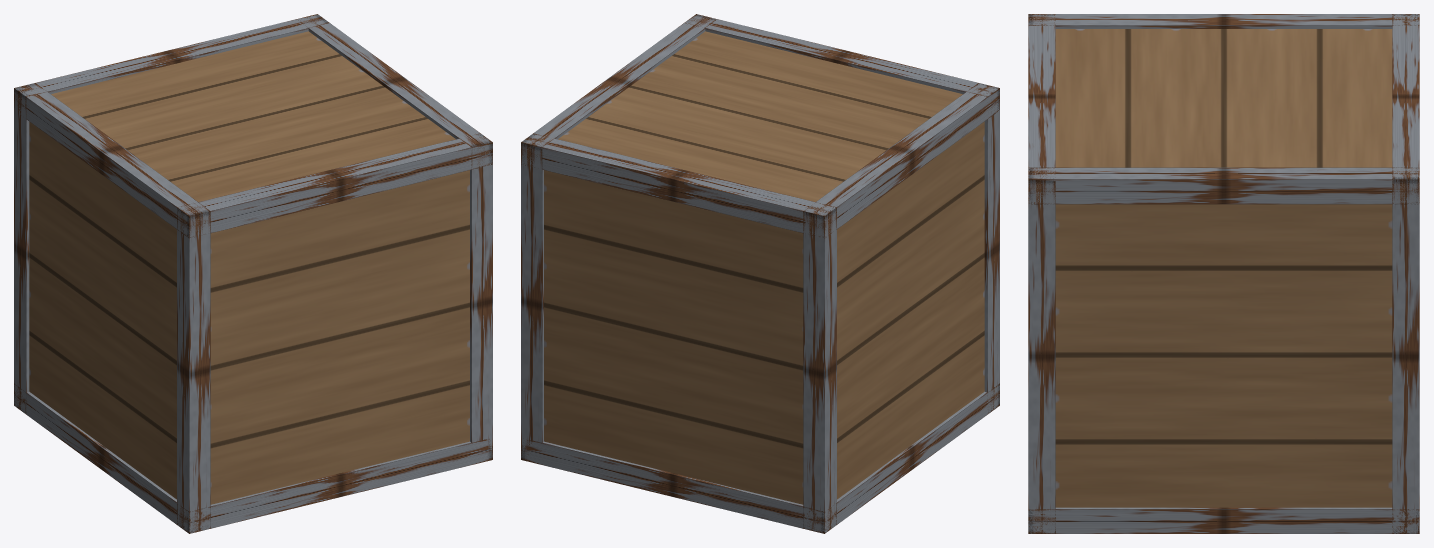
Rendered from crate.gltf.
3 views of the same model, side by side, from view 1: azimuth 30°, elevation 25°; view 2: azimuth 150°, elevation 25°; view 3: azimuth 270°, elevation 25° (orthographic). The views are drawn at different scales.
Parts seen in each view (by area): view 1: Crate; view 2: Crate; view 3: Crate.
Part boxes in pixels (x1=…): Crate: x1=14, y1=14, x2=492, y2=533; Crate: x1=521, y1=14, x2=999, y2=533; Crate: x1=1028, y1=14, x2=1419, y2=533.
Size of the model in its own units: 1 by 1 by 1.
2 materials, 2 textured.
